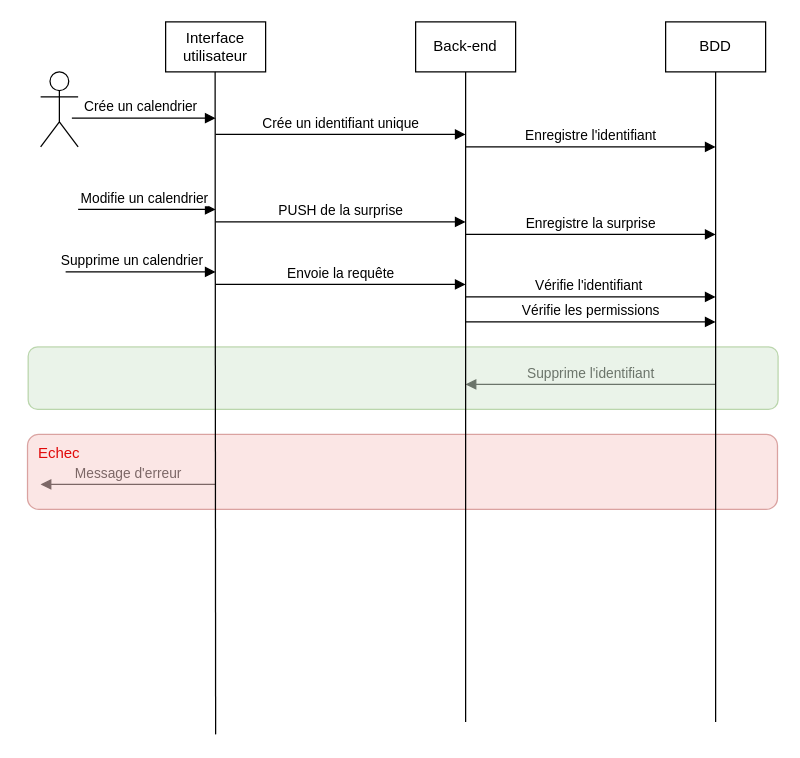
Some shapes in this 800 by 758 pixel diagram are drawn without their labels. Each missing label, with the centre of its shape:
"Succès" belongs at point 402,377.
"Utilisateur" belongs at point 58,109.
